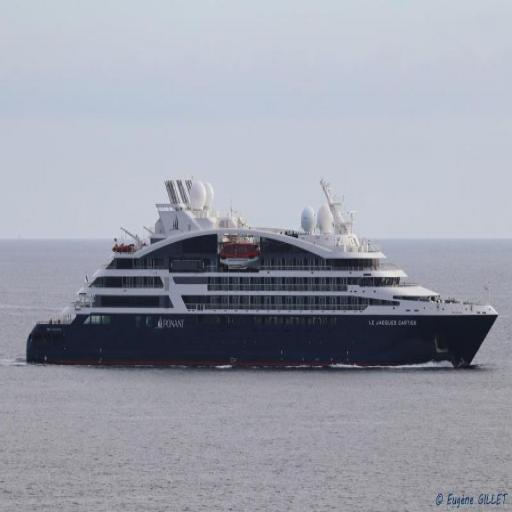cruises: (22, 170, 502, 380)
